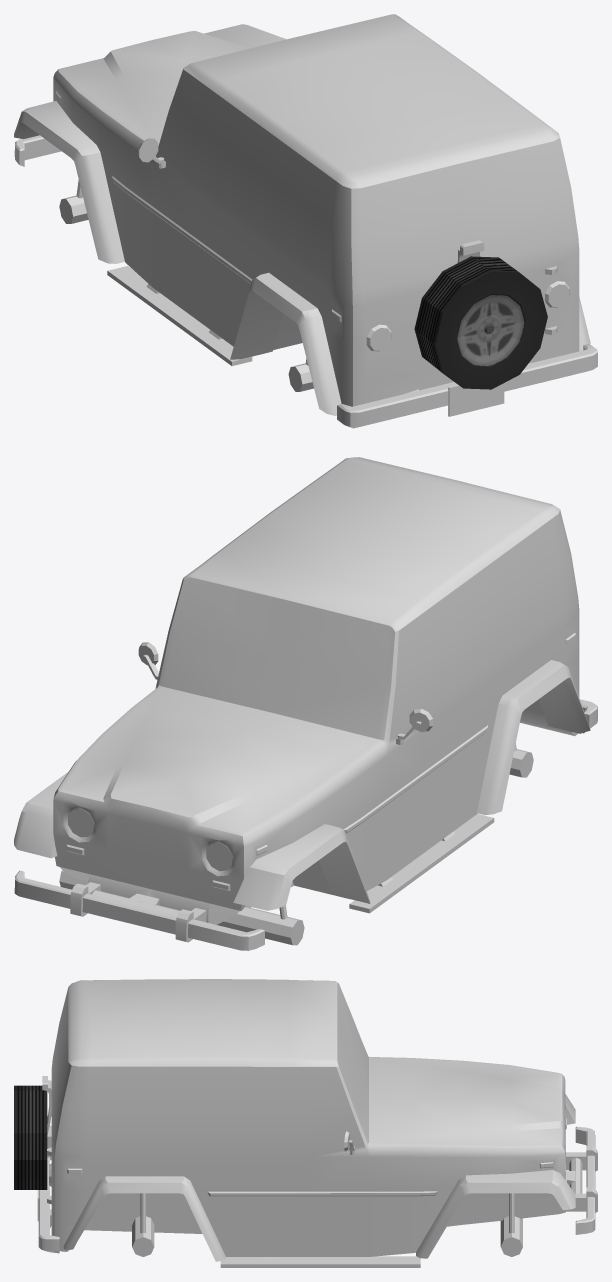
Rendered from ZXTHopper.fbx.
3 renders of one model, top to bottom at view 1: azimuth 30°, elevation 25°; view 2: azimuth 150°, elevation 25°; view 3: azimuth 270°, elevation 25°, orthographic. The views are drawn at different scales.
Parts seen in each view (by area): view 1: Hopper, SpareWheel; view 2: Hopper; view 3: Hopper, SpareWheel.
Boxes of the visible parts, bbox=[...] form: Hopper: bbox=[14, 14, 597, 428]; SpareWheel: bbox=[414, 256, 547, 389]; Hopper: bbox=[14, 457, 597, 950]; Hopper: bbox=[37, 979, 597, 1267]; SpareWheel: bbox=[14, 1085, 47, 1189].
Size of the model in its own units: 2.45 by 1.98 by 5.25.
